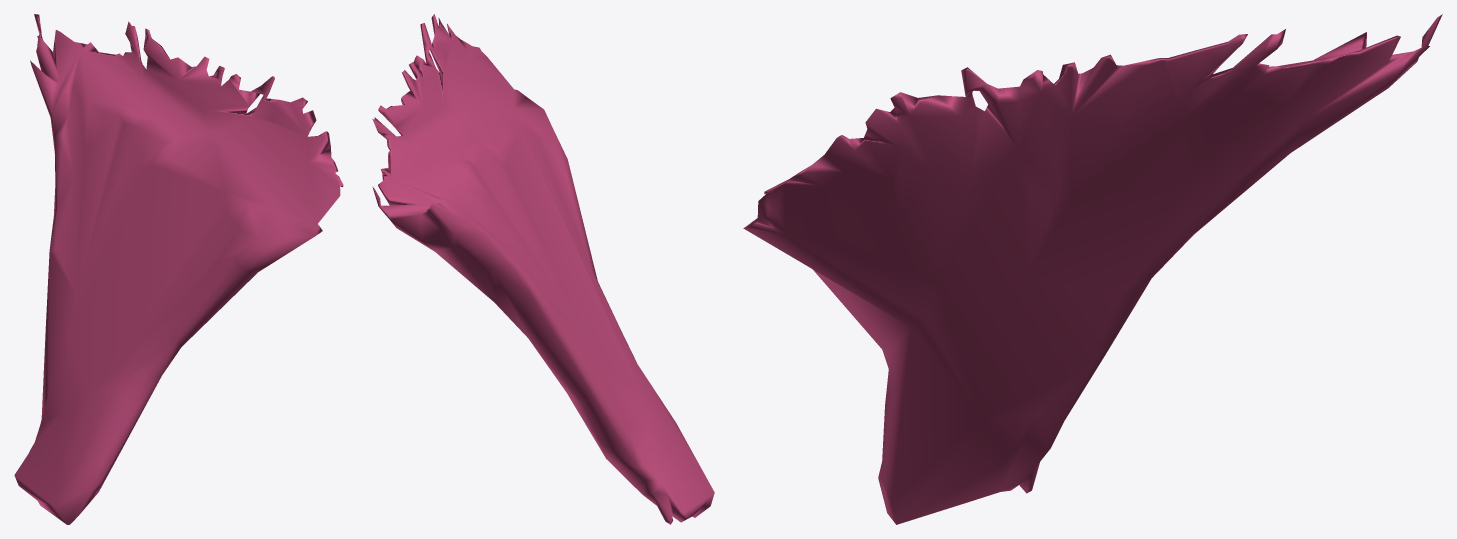
3 views of the same model, side by side, from view 1: azimuth 30°, elevation 25°; view 2: azimuth 150°, elevation 25°; view 3: azimuth 270°, elevation 25° (orthographic). The views are drawn at different scales.
Visible parts, largest first — view 1: 左侧笑肌; view 2: 左侧笑肌; view 3: 左侧笑肌.
Part boxes in pixels (x1,y1,x2,y2): 左侧笑肌: (14, 14, 343, 524); 左侧笑肌: (372, 14, 714, 524); 左侧笑肌: (743, 14, 1442, 524).
Size of the model in its own units: 0.0291 by 0.0406 by 0.04.
